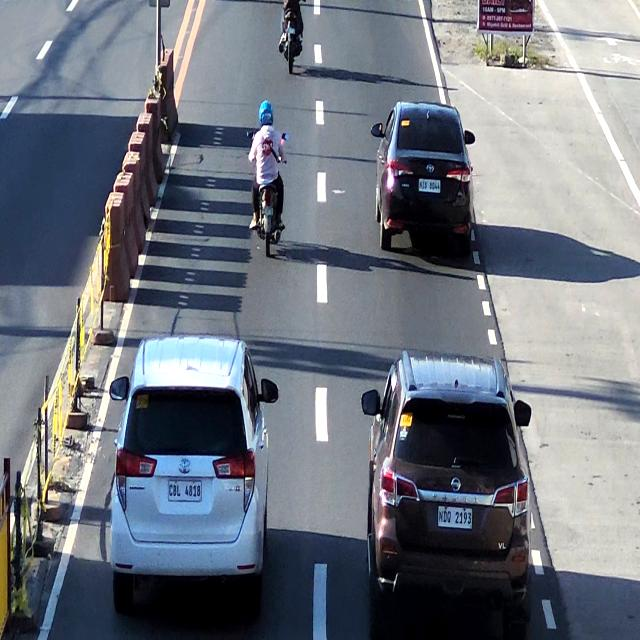Car: (108, 335, 272, 588), (374, 356, 528, 620), (377, 104, 475, 257)
License-Plate: (436, 504, 477, 536), (165, 480, 203, 505), (417, 176, 443, 193)
Motorcycle: (249, 96, 282, 256), (279, 0, 303, 73)
